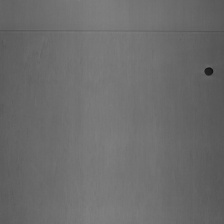punching_hole: (0, 23, 224, 39), (201, 63, 215, 79)
